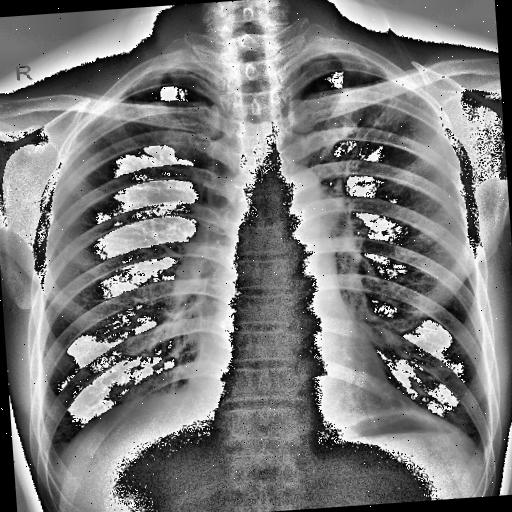10- Pleural effusion: (36, 439, 71, 474), (470, 434, 494, 457)
11- Pleural thickening: (36, 439, 71, 474), (470, 434, 494, 457)
13- Pulmonary fibrosis: (318, 80, 416, 186), (332, 69, 406, 156)
